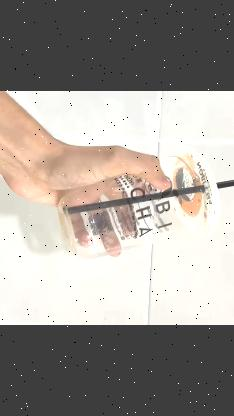Others: (57, 145, 234, 260)
